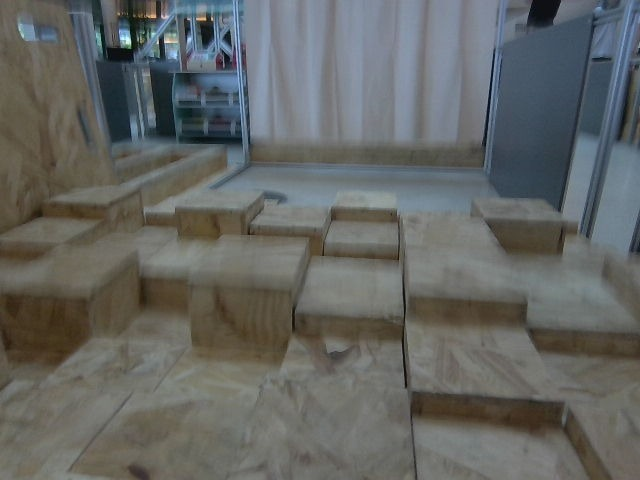curtain: (256, 0, 490, 149)
